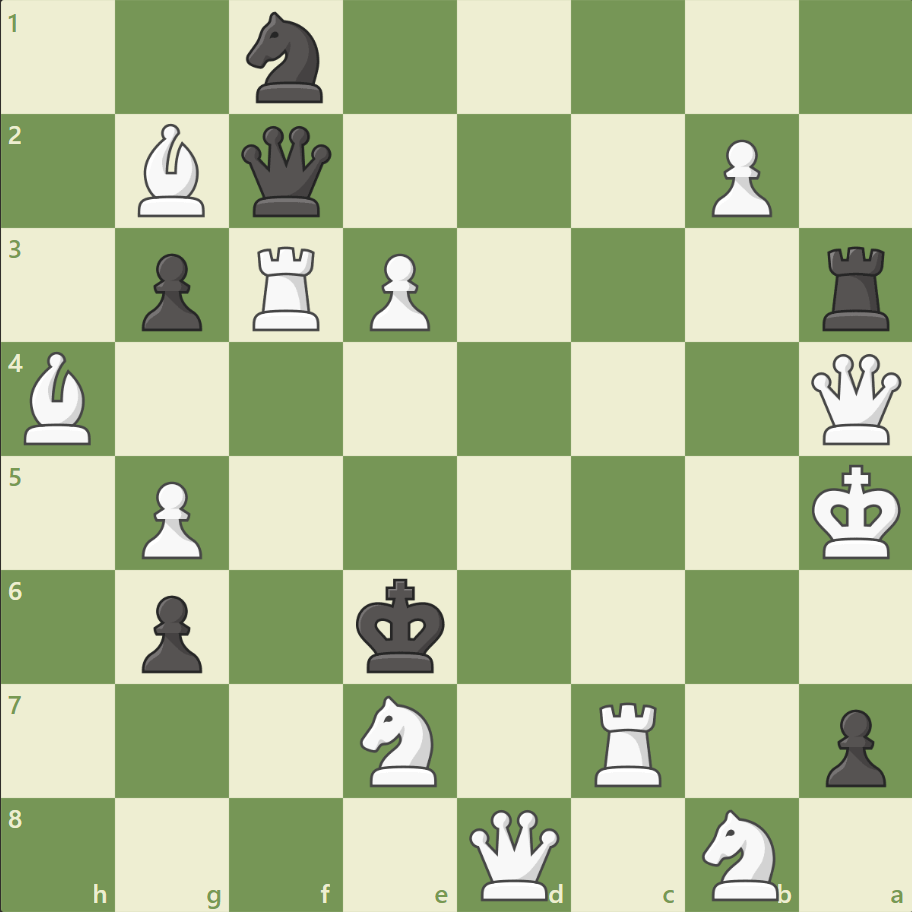B: (17, 347, 101, 449), (131, 120, 215, 222)
K: (806, 458, 906, 566)
N: (351, 688, 449, 791), (692, 802, 789, 904)
P: (133, 473, 208, 564), (701, 132, 776, 223), (361, 246, 435, 337)
Q: (805, 349, 904, 449), (464, 804, 563, 903)
R: (587, 693, 670, 790), (246, 239, 329, 336)
k: (351, 571, 451, 679)
n: (238, 7, 335, 110)
p: (133, 586, 208, 677), (133, 246, 208, 337), (815, 700, 889, 791)
q: (237, 122, 336, 222)
r: (814, 239, 897, 336)
